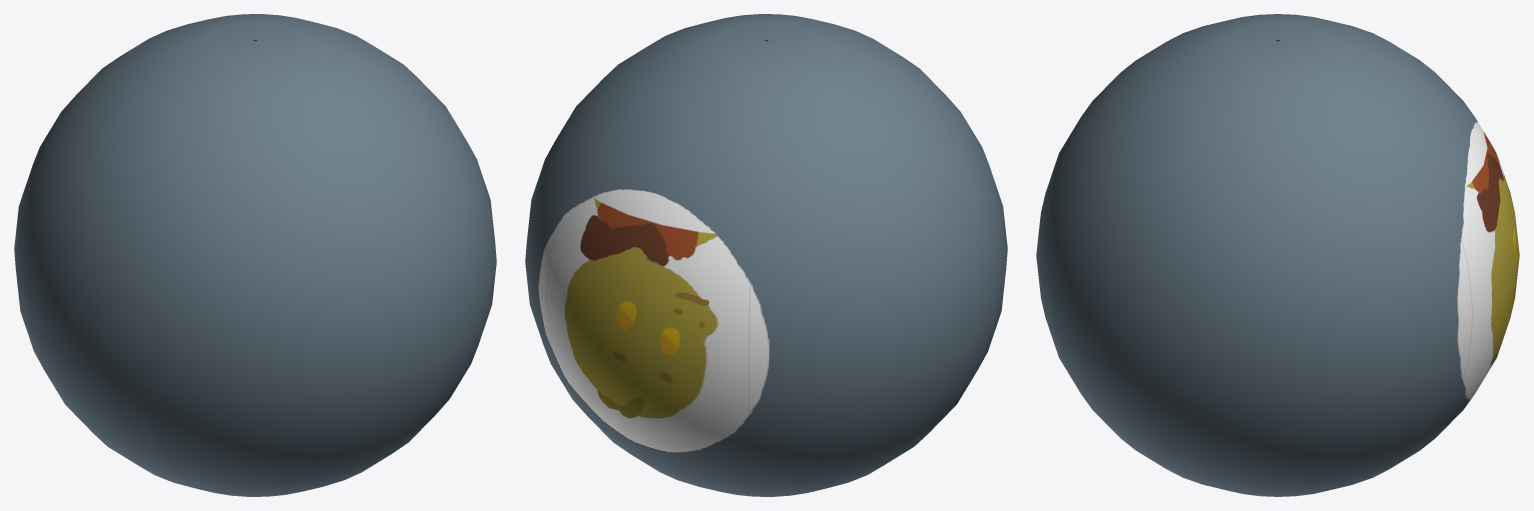
File: lizard_ball.fbx
The picture shows the model from 3 angles, left to right: view 1: azimuth 30°, elevation 25°; view 2: azimuth 150°, elevation 25°; view 3: azimuth 270°, elevation 25°; orthographic projection.
Parts seen in each view (by area): view 1: Sphere; view 2: Sphere; view 3: Sphere.
Part boxes in pixels (x1,y1,x2,y2): Sphere: [14, 14, 496, 496]; Sphere: [525, 14, 1007, 496]; Sphere: [1036, 14, 1519, 496].
Bounding box in the file's own units: 200 × 196 × 200.
